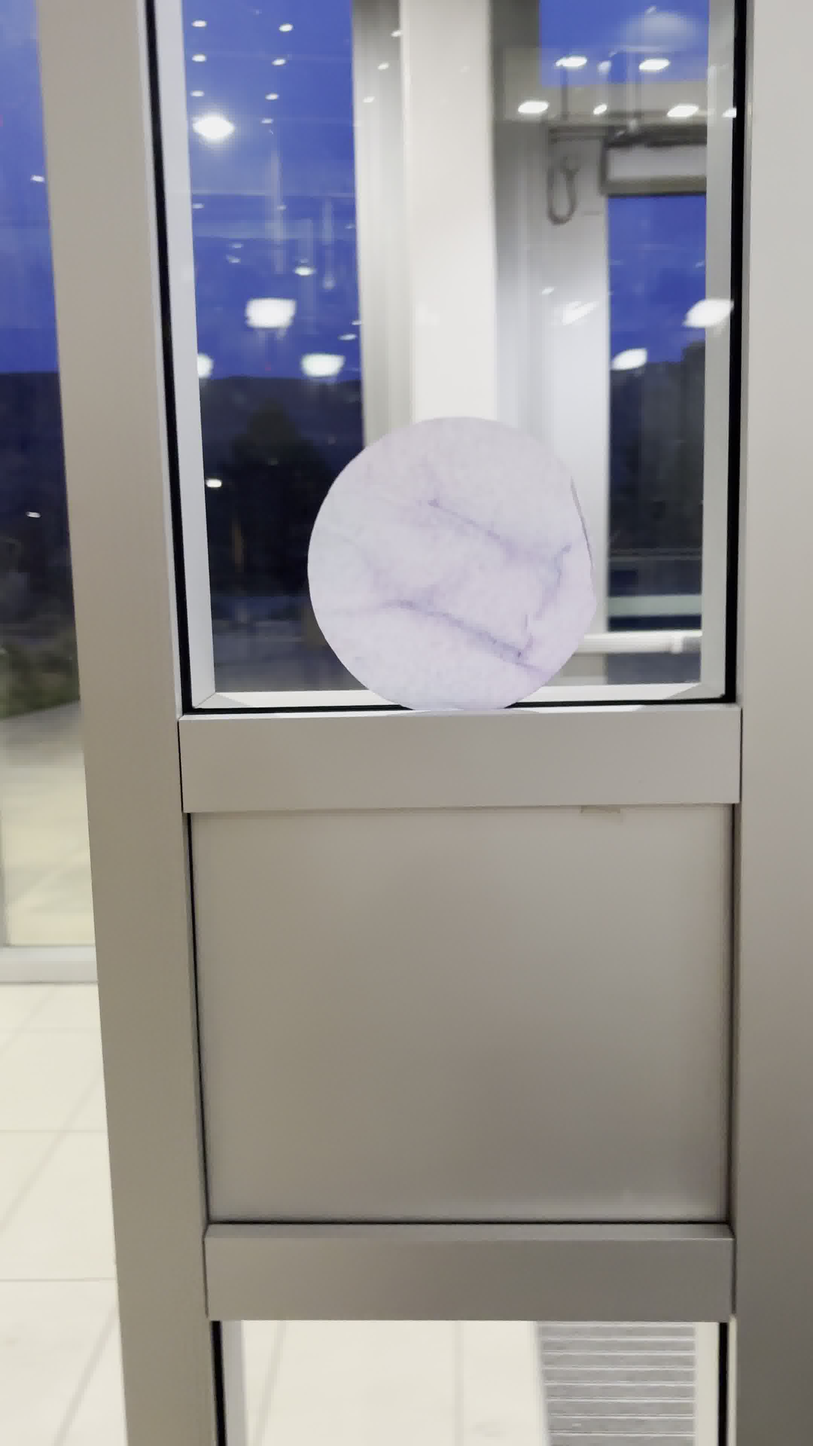Target: (308, 417, 598, 712)
